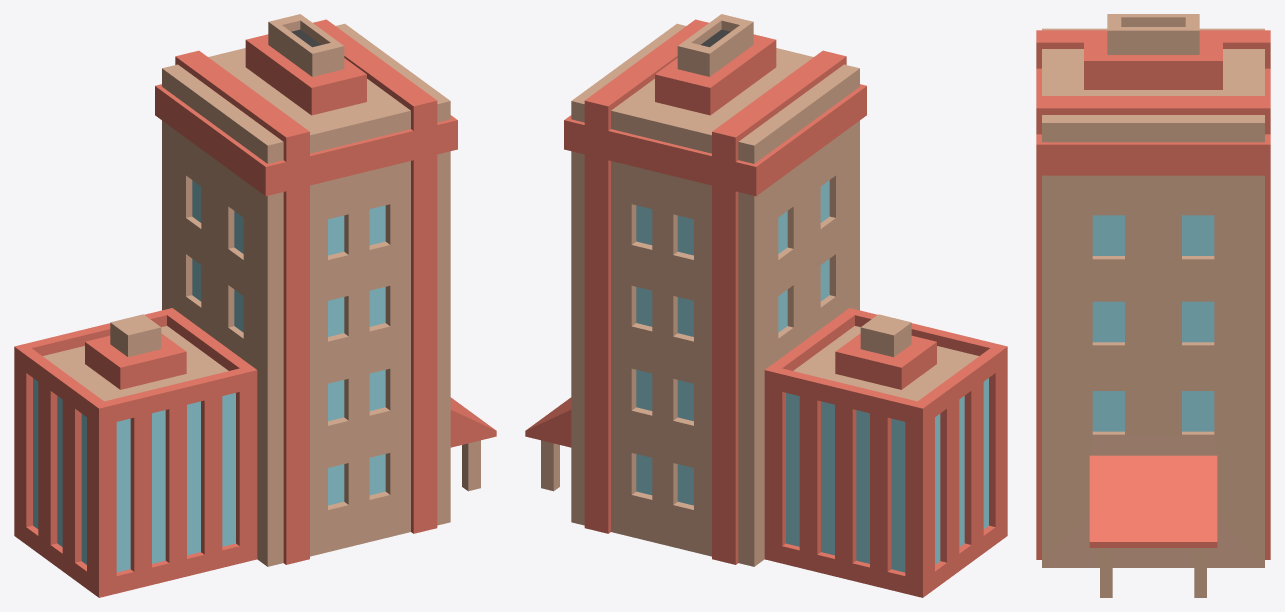
The model's file is BigHouse 4.2.fbx.
The picture shows the model from 3 angles, left to right: view 1: azimuth 30°, elevation 25°; view 2: azimuth 150°, elevation 25°; view 3: azimuth 270°, elevation 25°; orthographic projection. The views are drawn at different scales.
Visible parts, largest first — view 1: BigHouse_Type4_2; view 2: BigHouse_Type4_2; view 3: BigHouse_Type4_2.
Boxes of the visible parts, <box> form: BigHouse_Type4_2: <box>14,14,496,597</box>; BigHouse_Type4_2: <box>525,14,1007,597</box>; BigHouse_Type4_2: <box>1036,14,1270,597</box>.
Bounding box in the file's own units: 1478 × 1627 × 693.
